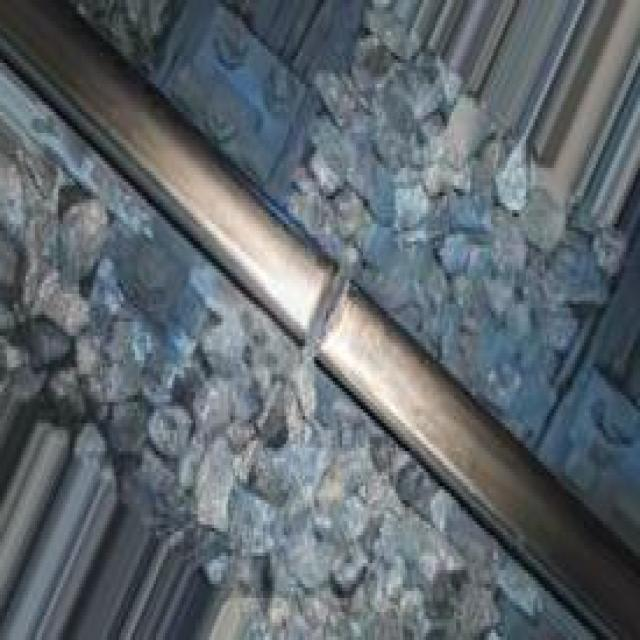crack: (278, 253, 367, 378)
